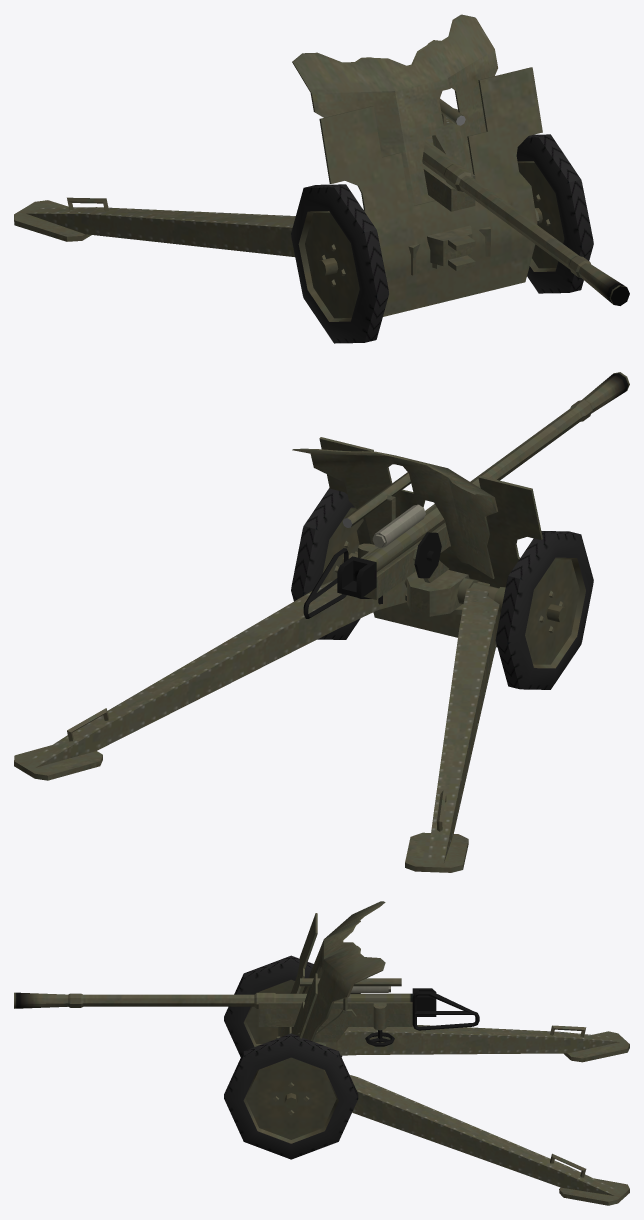
The model's file is FRA25mmMle1934.dae.
3 renders of one model, top to bottom at view 1: azimuth 30°, elevation 25°; view 2: azimuth 150°, elevation 25°; view 3: azimuth 270°, elevation 25°, orthographic. The views are drawn at different scales.
Visible parts, largest first — view 1: carriage, gun_wheels, turret, trail2, barrel, sleeve; view 2: gun_wheels, trail1, turret, trail2, carriage, barrel, sleeve; view 3: gun_wheels, trail1, trail2, turret, barrel, sleeve, carriage.
Part boxes in pixels (left/top/right/bottom): carriage: left=319, top=67, right=542, bottom=316; gun_wheels: left=291, top=134, right=593, bottom=343; turret: left=292, top=14, right=497, bottom=205; trail2: left=14, top=197, right=441, bottom=275; barrel: left=422, top=141, right=629, bottom=305; sleeve: left=423, top=139, right=475, bottom=211; gun_wheels: left=291, top=488, right=593, bottom=689; trail1: left=14, top=579, right=406, bottom=780; turret: left=292, top=448, right=497, bottom=582; trail2: left=405, top=581, right=499, bottom=872; carriage: left=319, top=437, right=542, bottom=647; barrel: left=337, top=372, right=629, bottom=598; sleeve: left=303, top=504, right=450, bottom=618; gun_wheels: left=224, top=955, right=358, bottom=1159; trail1: left=349, top=1075, right=629, bottom=1205; trail2: left=276, top=1025, right=629, bottom=1062; turret: left=291, top=901, right=401, bottom=1042; barrel: left=14, top=988, right=436, bottom=1016; sleeve: left=258, top=986, right=479, bottom=1046; carriage: left=254, top=913, right=325, bottom=1046.
Size of the model in its own units: 15.74 by 24.02 by 8.13.
